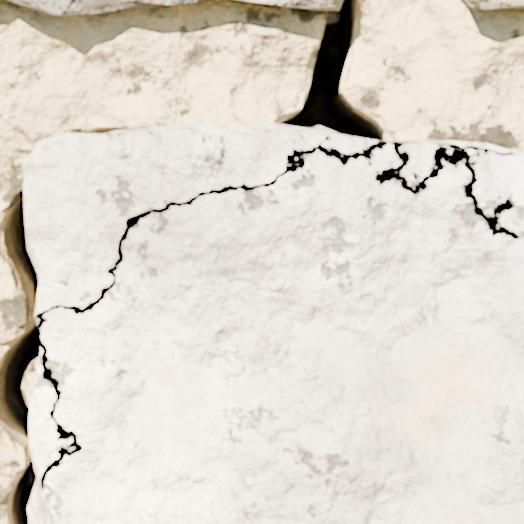brick: (38, 144, 523, 523), (24, 123, 374, 312), (472, 152, 523, 232), (8, 0, 206, 18), (401, 140, 437, 183), (248, 0, 341, 9), (442, 141, 508, 151), (466, 0, 523, 8)
crack: (0, 0, 523, 523), (76, 128, 119, 134)
